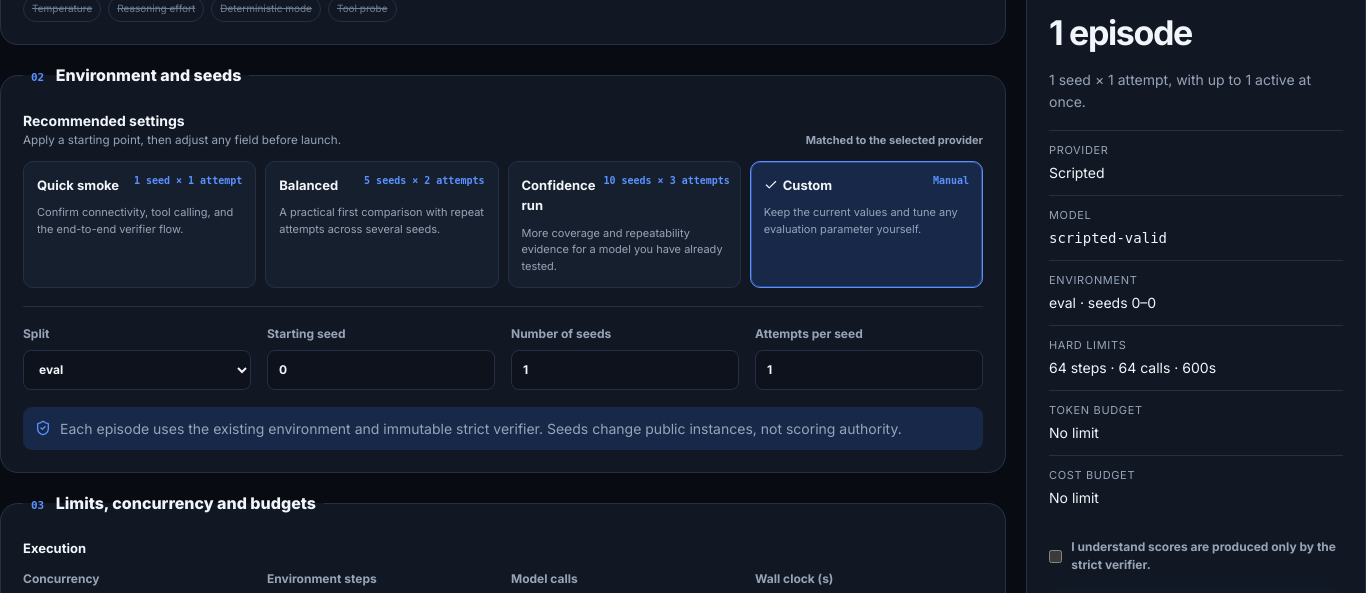
Test: requires explicit confirmation before submission
The image size is (1366, 593).
(page scrolled)
Click the checkbox labelled "I understand scores" at [1056, 556], box [1049, 547, 1062, 564]
(page scrolled)
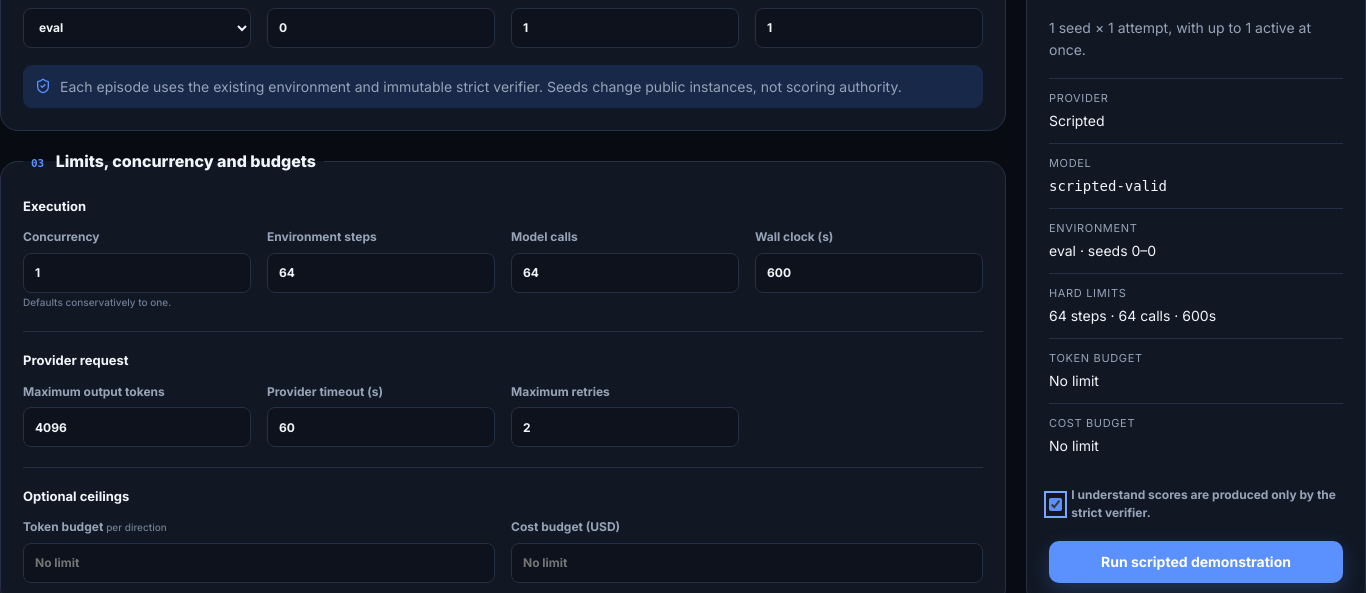
Expected: the button "Run scripted demonstration" is enabled, [1049, 541, 1343, 583]
